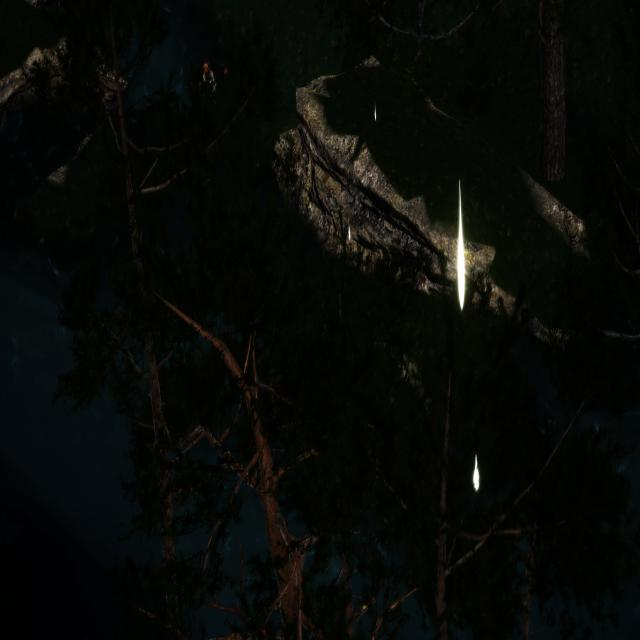Human: (200, 63, 219, 109)
